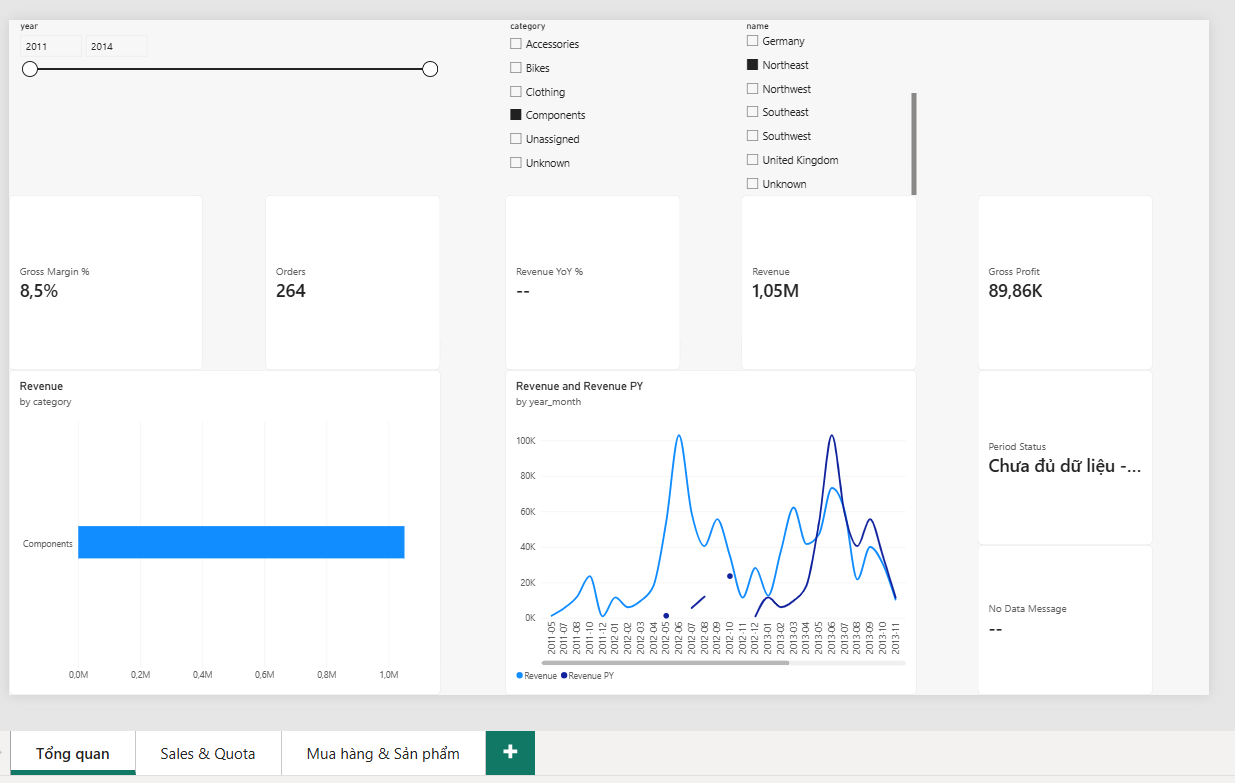

This screenshot's page, from the dashboard's own definition file:
{"tool":"powerbi","page":{"name":"Tổng quan","canvas":[1920,1080],"ordinal":0},"visuals":[{"type":"slicer","fields":{"Values":["dim_date.year"]},"box":[10,0,280,280],"z":0},{"type":"slicer","fields":{"Values":["dim_territory.name"]},"box":[300,0,280,280],"z":1000},{"type":"slicer","fields":{"Values":["dim_product.category"]},"box":[580,0,280,280],"z":2000},{"type":"cardVisual","fields":{"Data":["_Measures.Revenue"]},"box":[862,280,280,280],"z":3000},{"type":"cardVisual","fields":{"Data":["_Measures.Gross Profit"]},"box":[1140,280,280,280],"z":4000},{"type":"cardVisual","fields":{"Data":["_Measures.Gross Margin %"]},"box":[0,280,310,280],"z":5000},{"type":"cardVisual","fields":{"Data":["_Measures.Orders"]},"box":[307.5,280,280,280],"z":6000},{"type":"cardVisual","fields":{"Data":["_Measures.Revenue YoY %"]},"box":[586,280,280,280],"z":7000},{"type":"clusteredBarChart","fields":{"Category":["dim_product.category"],"Y":["_Measures.Revenue"]},"box":[0,560,586,520],"z":8000},{"type":"cardVisual","fields":{"Data":["_Measures.Period Status"]},"box":[1140,560,280,280],"z":9000},{"type":"cardVisual","fields":{"Data":["_Measures.No Data Message"]},"box":[1140,840,280,240],"z":10000},{"type":"lineChart","fields":{"Category":["dim_date.year_month"],"Y":["_Measures.Revenue","_Measures.Revenue PY"]},"box":[580,560,562,520],"z":11000}]}

Visuals, with their boxes on the page's 1920x1080 design canvas (x1, y1, x2, y2). These are canvas units, not pixel positions in the 1235x783 screenshot, which may show the page scaled, cropped or inside an application window:
slicer - dim_date.year: select_region(10, 0, 290, 280)
slicer - dim_territory.name: select_region(300, 0, 580, 280)
slicer - dim_product.category: select_region(580, 0, 860, 280)
cardVisual - _Measures.Revenue: select_region(862, 280, 1142, 560)
cardVisual - _Measures.Gross Profit: select_region(1140, 280, 1420, 560)
cardVisual - _Measures.Gross Margin %: select_region(0, 280, 310, 560)
cardVisual - _Measures.Orders: select_region(308, 280, 588, 560)
cardVisual - _Measures.Revenue YoY %: select_region(586, 280, 866, 560)
clusteredBarChart - dim_product.category x _Measures.Revenue: select_region(0, 560, 586, 1080)
cardVisual - _Measures.Period Status: select_region(1140, 560, 1420, 840)
cardVisual - _Measures.No Data Message: select_region(1140, 840, 1420, 1080)
lineChart - dim_date.year_month x _Measures.Revenue: select_region(580, 560, 1142, 1080)
